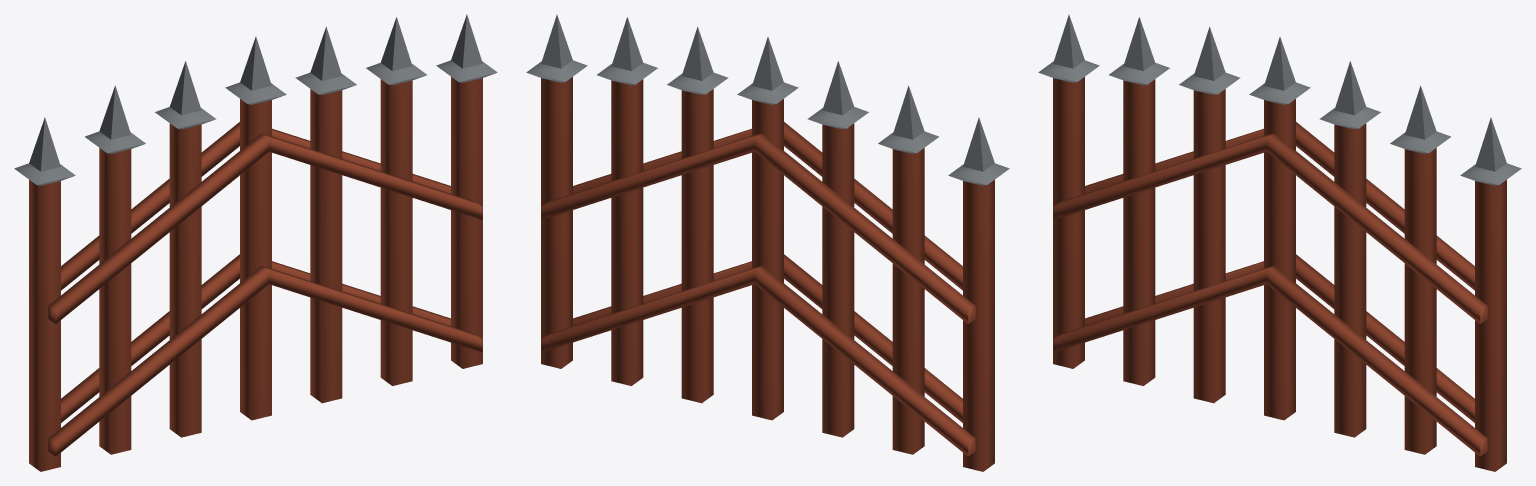
The model's file is fence.obj.
The picture shows the model from 3 angles, left to right: view 1: azimuth 30°, elevation 25°; view 2: azimuth 150°, elevation 25°; view 3: azimuth 330°, elevation 25°; orthographic projection.
Parts seen in each view (by area): view 1: fence; view 2: fence; view 3: fence.
Boxes of the visible parts, x1=… form: fence: x1=14, y1=14, x2=497, y2=471; fence: x1=526, y1=14, x2=1009, y2=471; fence: x1=1038, y1=14, x2=1521, y2=471.
Size of the model in its own units: 4.5 by 3.52 by 0.4446.
